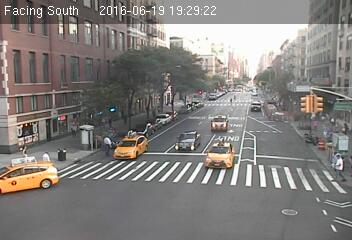neg: (301, 128, 319, 152), (123, 135, 140, 158), (38, 178, 53, 197), (134, 92, 146, 107), (156, 110, 166, 123)
pos: (326, 151, 351, 186), (96, 132, 116, 159)
